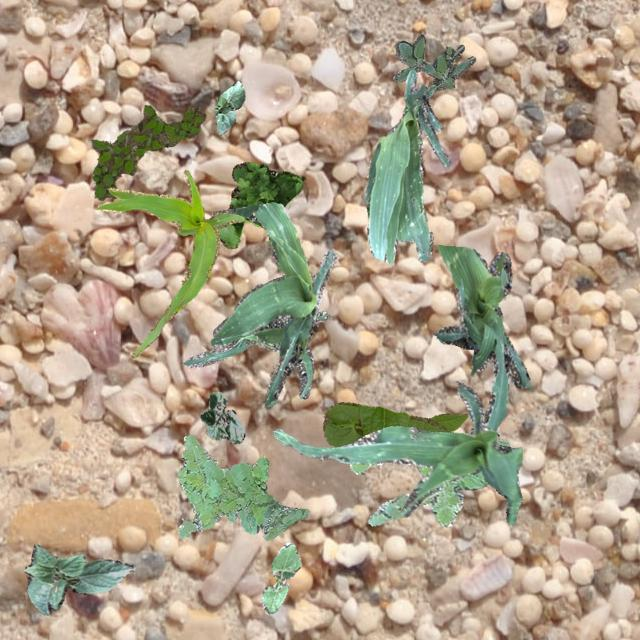crop: (273, 382, 522, 524), (96, 168, 242, 358), (210, 200, 334, 406), (434, 244, 530, 474), (364, 69, 449, 262), (180, 310, 328, 398), (22, 544, 134, 614), (322, 401, 448, 446), (262, 542, 300, 612), (198, 390, 244, 442), (214, 80, 244, 134), (428, 412, 467, 430)
weed: (348, 438, 508, 526), (176, 434, 308, 540), (91, 104, 205, 198), (216, 160, 304, 248), (392, 32, 474, 98)
